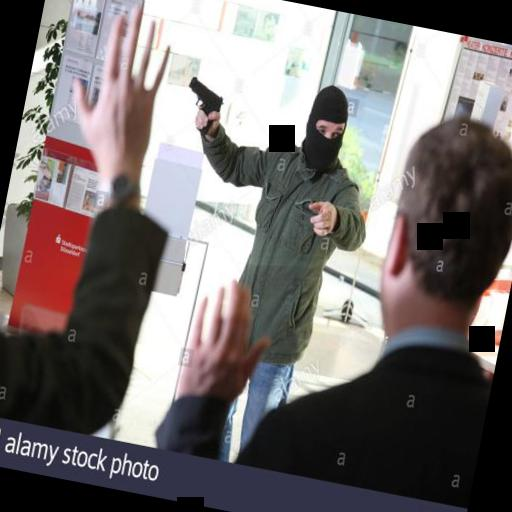Handgun: (179, 73, 226, 137)
